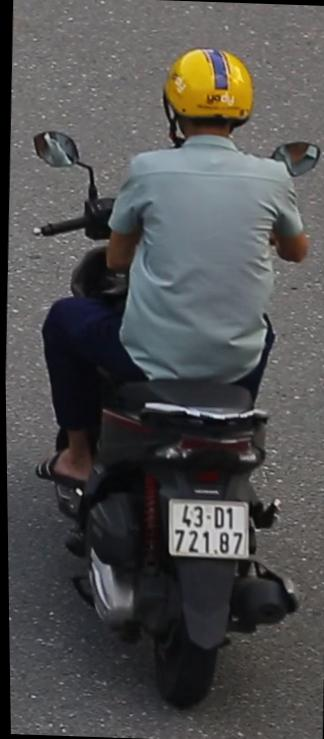LP: (161, 494, 253, 567)
helmet: (152, 40, 259, 157)
